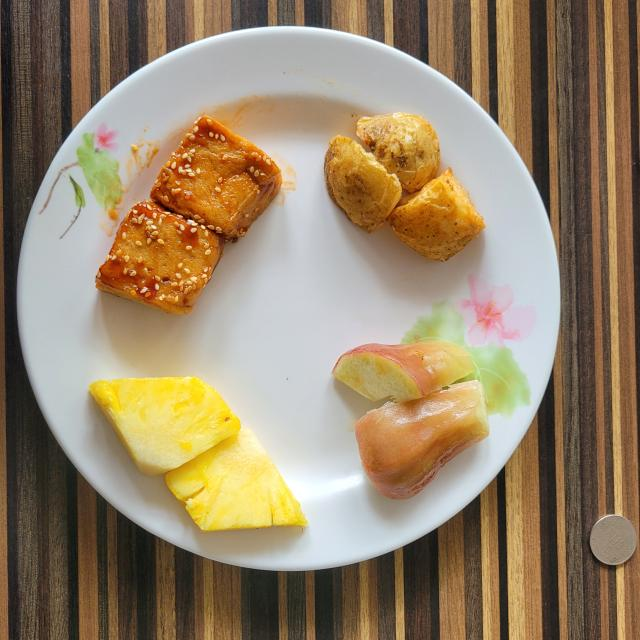coin: (590, 515, 638, 565)
creamy tofu: (96, 116, 282, 314)
fried potato: (325, 112, 484, 260)
pineapple: (89, 376, 308, 532)
